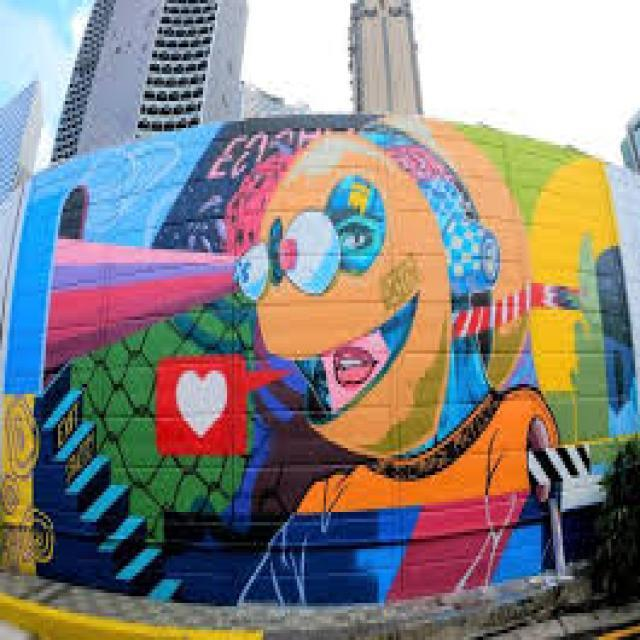-: (2, 114, 640, 603)
